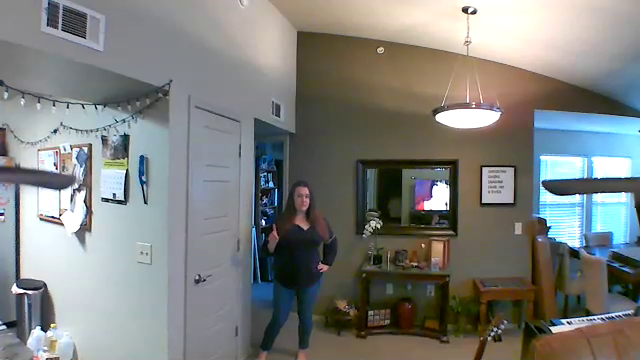up: (265, 221, 281, 243)
